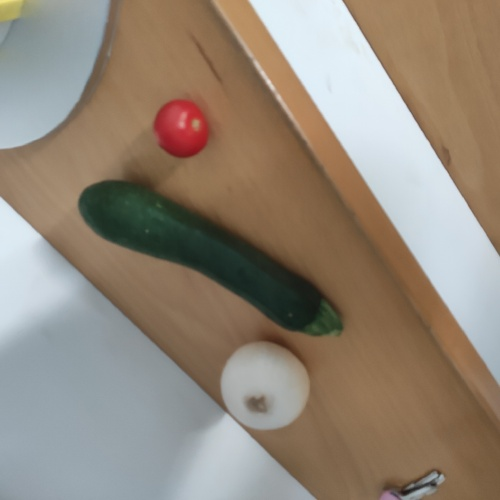cipolla: (220, 336, 313, 427)
pomodoro: (150, 97, 220, 160)
zucchine: (81, 179, 342, 338)
